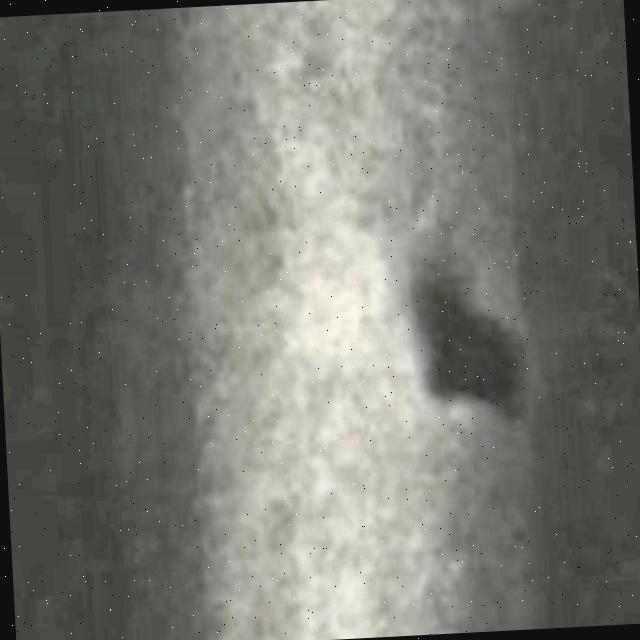Slag: (403, 240, 534, 426)
